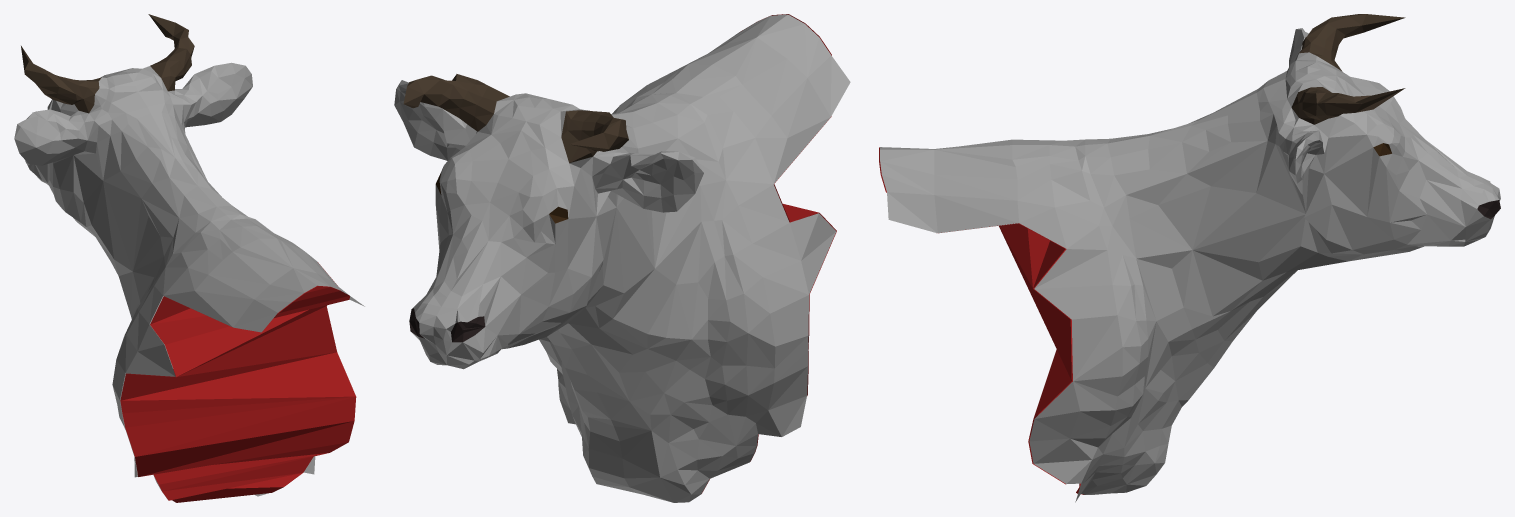
Rendered from cow-part1.obj.
3 renders of one model, left to right at view 1: azimuth 30°, elevation 25°; view 2: azimuth 150°, elevation 25°; view 3: azimuth 270°, elevation 25°, orthographic. The views are drawn at different scales.
Visible parts, largest first — view 1: cow.001_cow__CowHide1, cow.003_cow.001_flesh, cow.001_cow__CowHorns1.002, cow.001_cow__CowHide1.002; view 2: cow.001_cow__CowHide1, cow.001_cow__CowHorns1.002, cow.001_cow__CowHide1.002, cow.003_cow.001_flesh, cow.001_cow__CowNose1; view 3: cow.001_cow__CowHide1, cow.003_cow.001_flesh, cow.001_cow__CowHorns1.002.
Boxes of the visible parts, x1=… form: cow.001_cow__CowHide1: x1=14, y1=62, x2=364, y2=499; cow.003_cow.001_flesh: x1=120, y1=262, x2=356, y2=502; cow.001_cow__CowHorns1.002: x1=21, y1=14, x2=194, y2=113; cow.001_cow__CowHide1.002: x1=163, y1=291, x2=315, y2=474; cow.001_cow__CowHide1: x1=394, y1=14, x2=850, y2=502; cow.001_cow__CowHorns1.002: x1=403, y1=74, x2=628, y2=163; cow.001_cow__CowHide1.002: x1=412, y1=117, x2=830, y2=308; cow.003_cow.001_flesh: x1=701, y1=14, x2=836, y2=493; cow.001_cow__CowNose1: x1=409, y1=308, x2=485, y2=342; cow.001_cow__CowHide1: x1=880, y1=28, x2=1500, y2=502; cow.003_cow.001_flesh: x1=879, y1=147, x2=1083, y2=494; cow.001_cow__CowHorns1.002: x1=1291, y1=14, x2=1405, y2=124.
Size of the model in its own units: 0.5132 by 0.7742 by 1.02.
